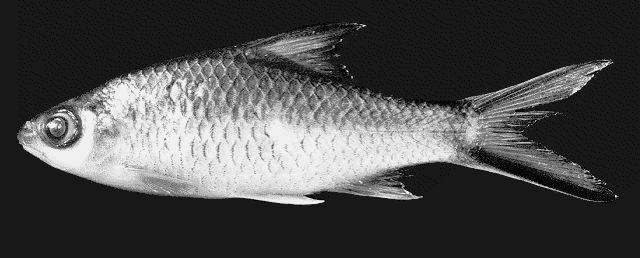Silver Barb: (19, 21, 615, 204)
